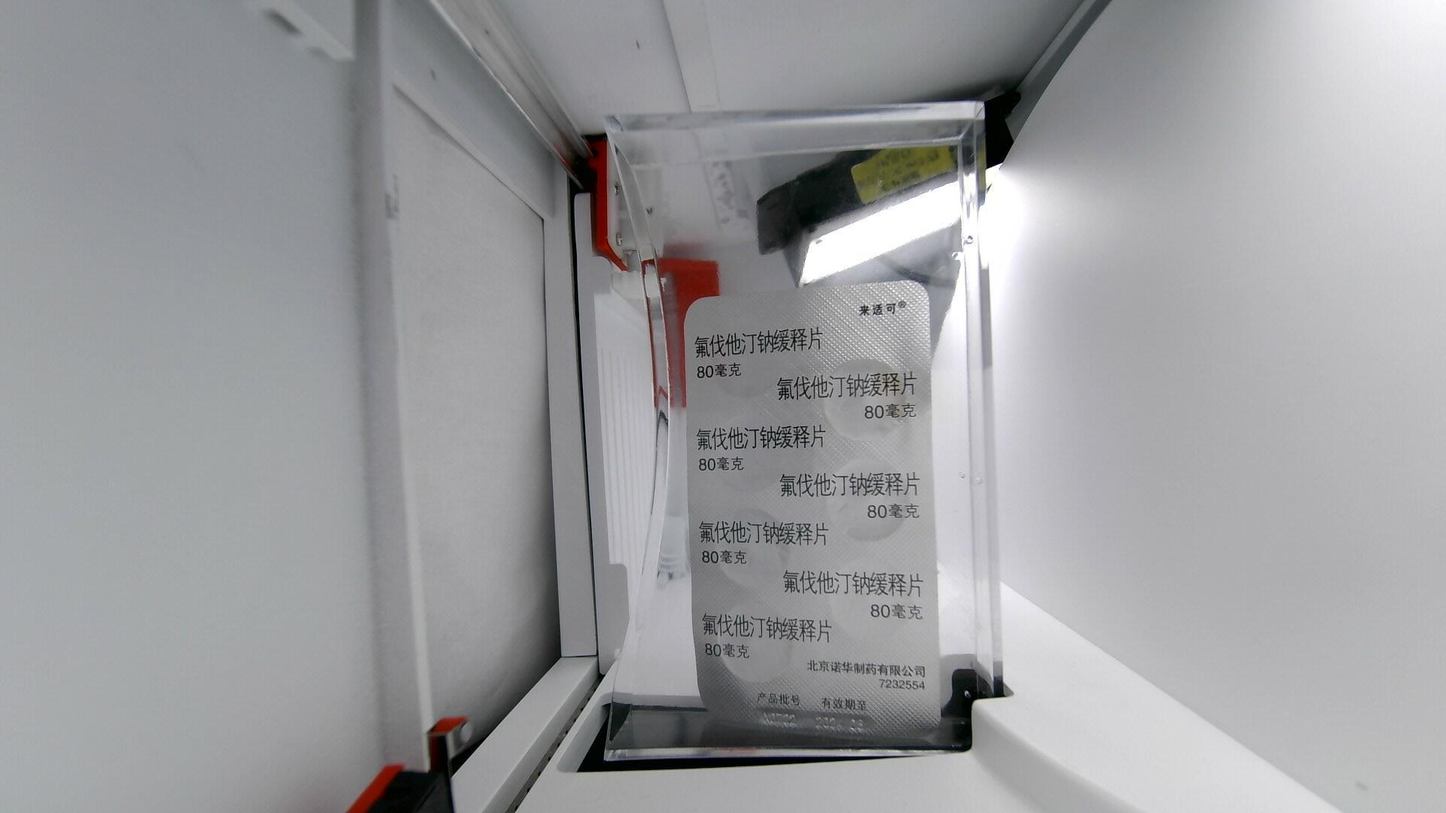Pill Back: (820, 458, 920, 540), (822, 349, 907, 436), (703, 418, 799, 493), (714, 602, 801, 683), (825, 568, 918, 643), (712, 509, 798, 584), (706, 321, 788, 399)
